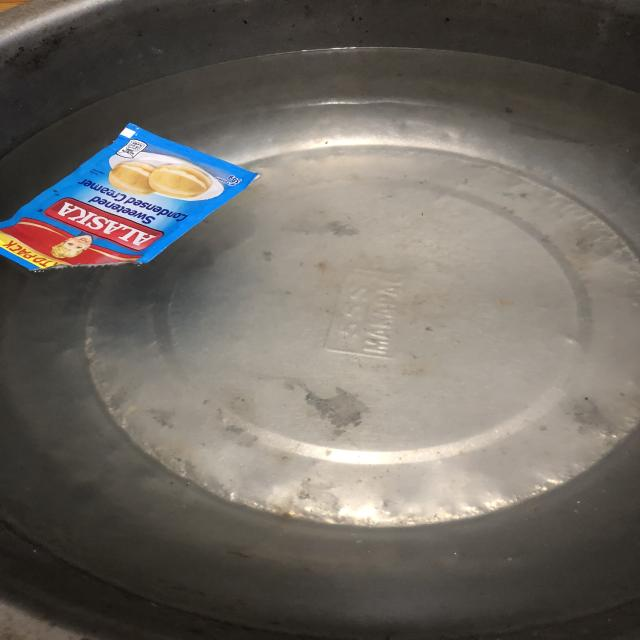Plastic Wrapper: (5, 122, 258, 274)
